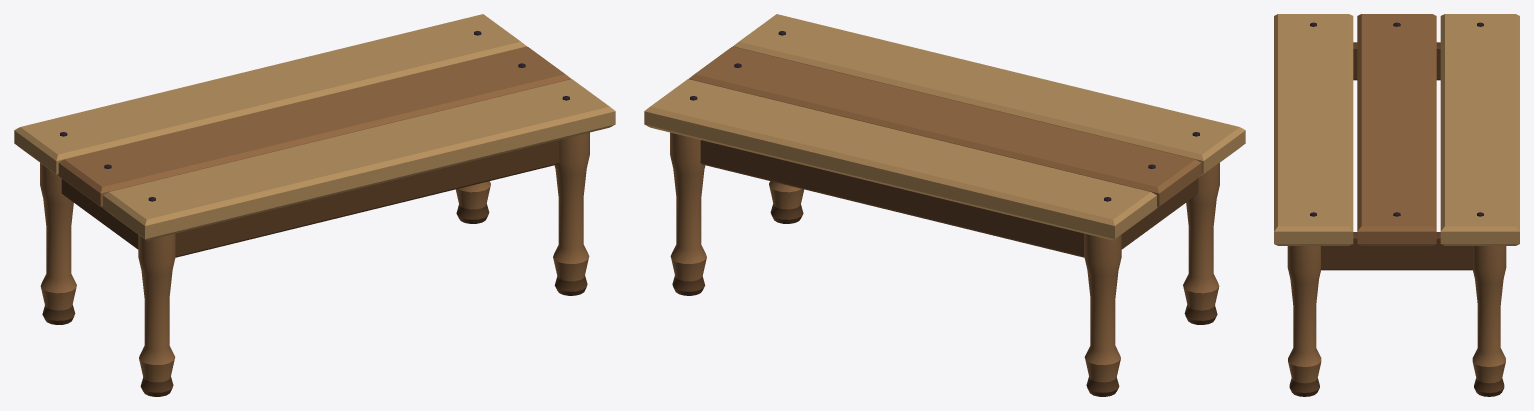
Rendered from Table_08.glb.
3 renders of one model, left to right at view 1: azimuth 30°, elevation 25°; view 2: azimuth 150°, elevation 25°; view 3: azimuth 270°, elevation 25°, orthographic. The views are drawn at different scales.
Visible parts, largest first — view 1: Table_08; view 2: Table_08; view 3: Table_08.
Part boxes in pixels (x1,y1,x2,y2): Table_08: (14, 14, 615, 396); Table_08: (644, 14, 1245, 396); Table_08: (1274, 14, 1519, 396).
Bounding box in the file's own units: 7.48 × 2.89 × 3.6.
